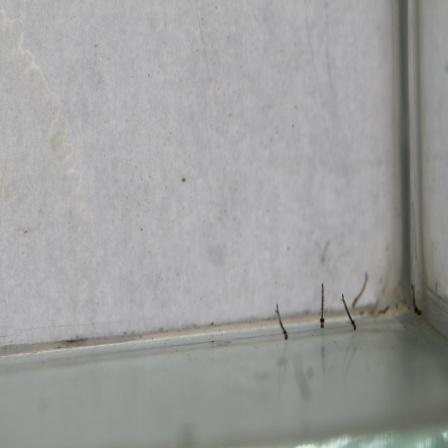Jentik-Nyamuk: (338, 271, 372, 333), (403, 278, 426, 320), (270, 300, 292, 343), (315, 278, 328, 332)
